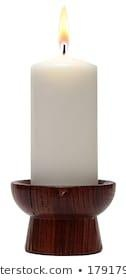fire: (55, 0, 73, 54)
